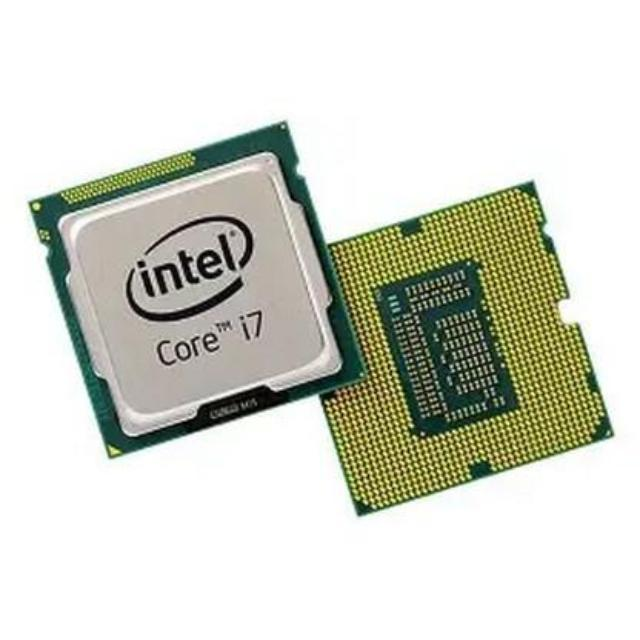CPU: (24, 116, 373, 458), (306, 182, 616, 524)
